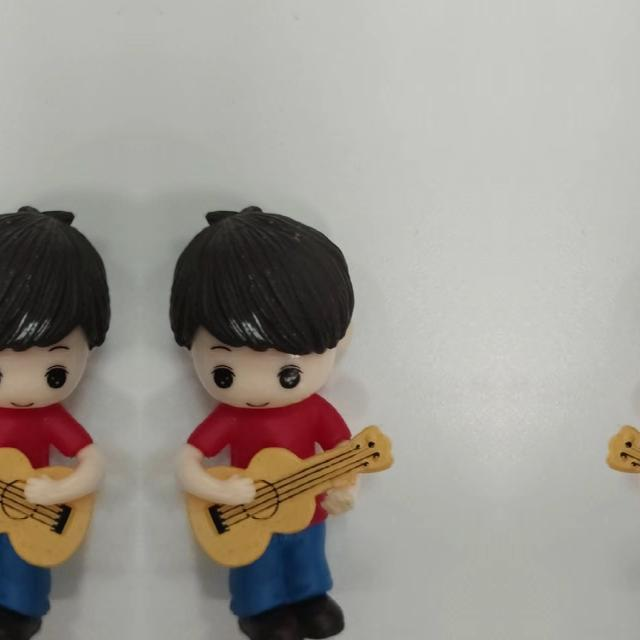man cloth: (184, 398, 360, 534), (0, 397, 96, 534)
man head: (165, 198, 359, 416), (0, 198, 115, 415)
trousers: (215, 521, 355, 640), (0, 521, 65, 640)
